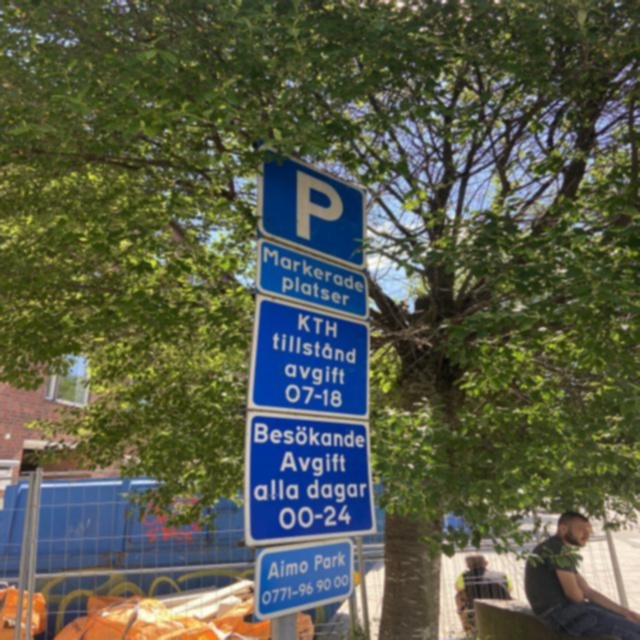P-skylt: (256, 138, 379, 270)
